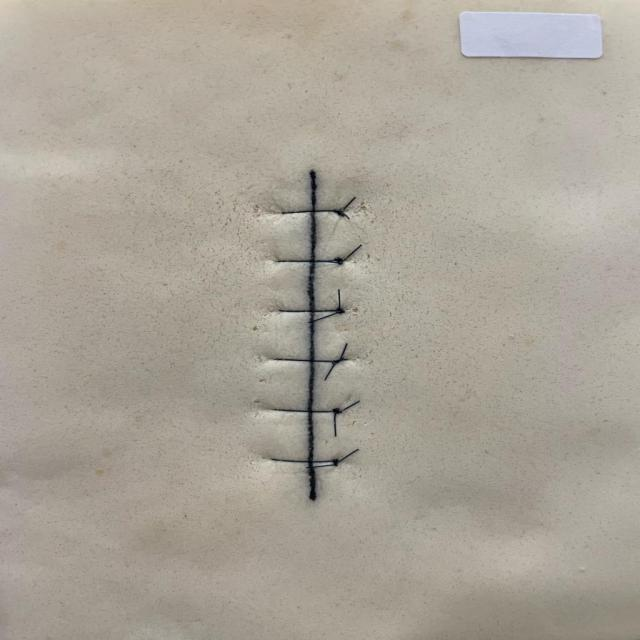knot: (331, 207, 347, 218), (330, 356, 347, 366), (332, 256, 346, 267), (330, 457, 342, 468), (333, 306, 347, 315), (329, 407, 344, 415)
leftover: (307, 310, 342, 324), (342, 243, 363, 262), (336, 448, 360, 463), (338, 399, 361, 413), (323, 362, 337, 381), (341, 196, 357, 212), (304, 463, 337, 469), (338, 342, 349, 360), (332, 410, 338, 438), (315, 259, 341, 264), (336, 287, 341, 310), (342, 213, 351, 220)
stitch: (269, 458, 336, 463), (273, 357, 340, 362), (272, 408, 336, 413), (276, 258, 339, 263), (280, 209, 340, 214), (277, 309, 339, 313)
wound: (307, 168, 316, 502)
